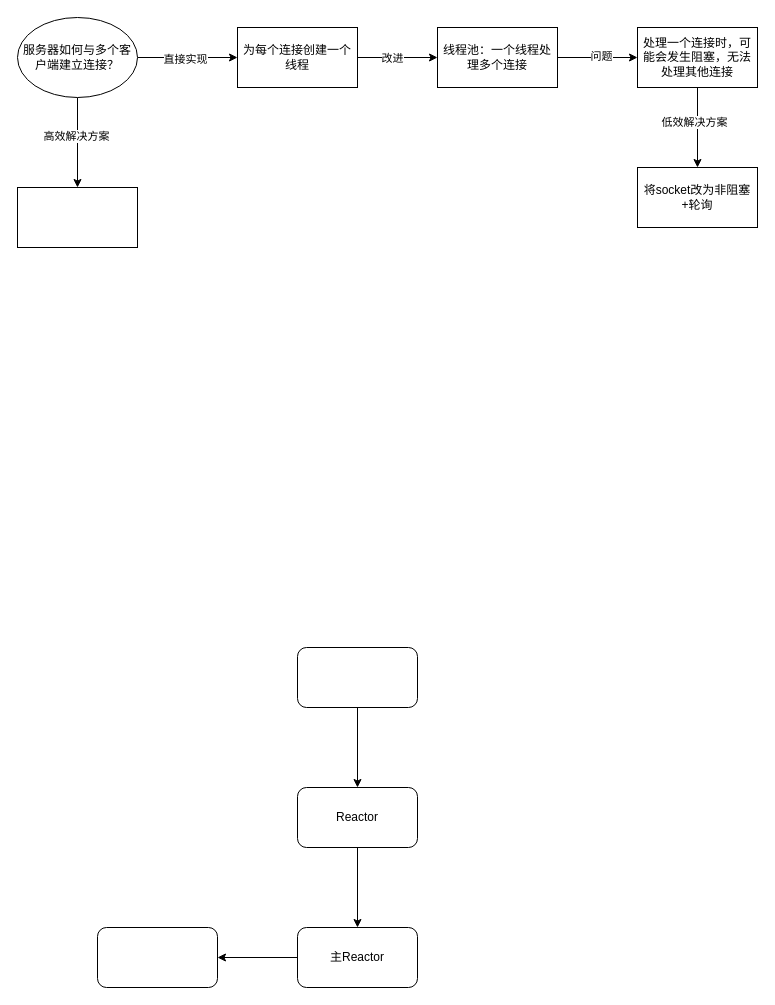
This 775x1005 diagram has some shape labels left out. Here are the shapes that lost their labels. From the top down, the box of each, then its label:
(16, 186, 138, 248): I/O多路复用
(296, 646, 418, 708): 多Reactor + 多线程模式
(96, 926, 218, 988): 只负责监听新的连接请求
